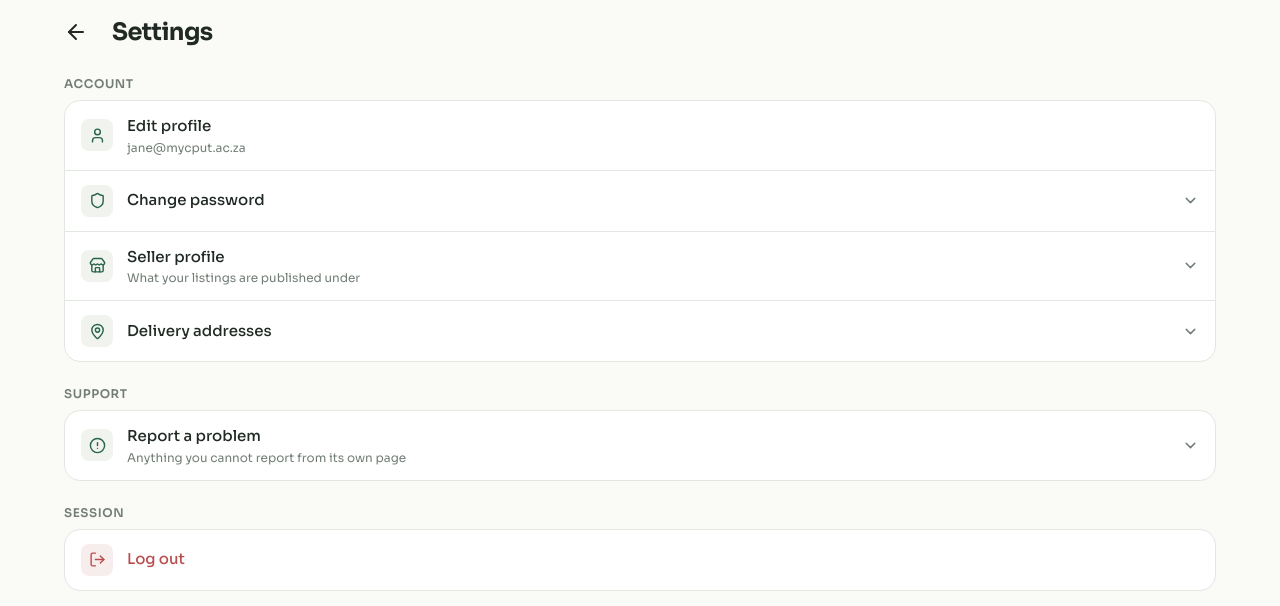
Scenario: student seller onboarding › lets a student apply for a seller profile from Settings
Click the button "Seller profile What your listings are published under" at (97, 266), box x1=65 y1=232 x2=1215 y2=300
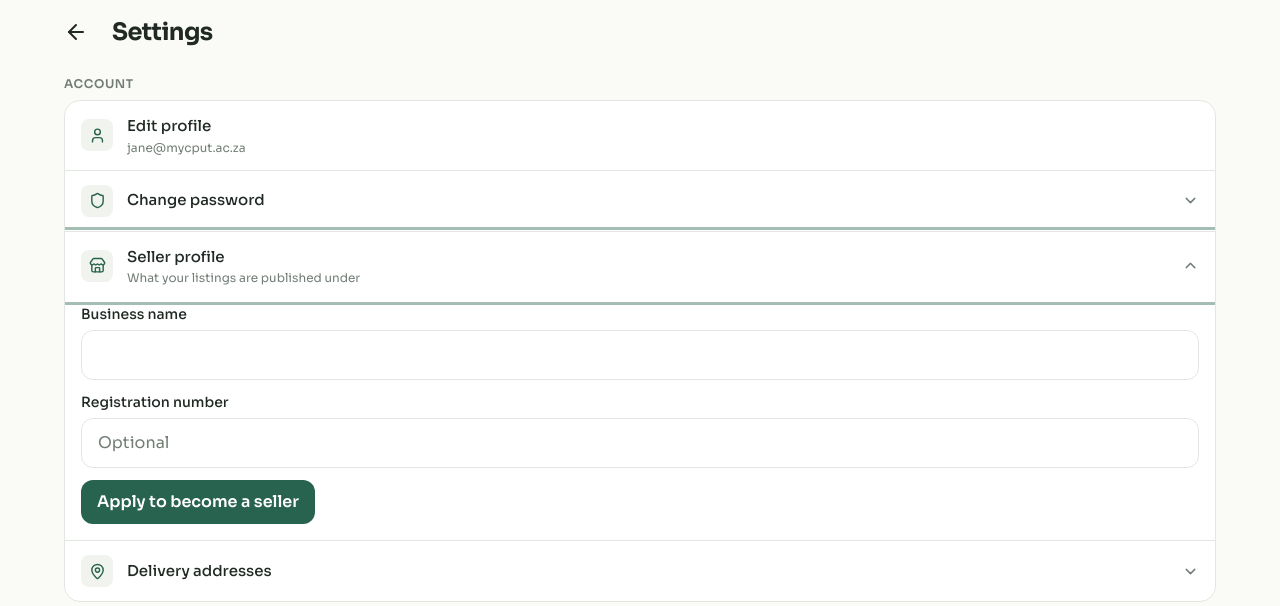
Type "Jane Books" into the field labelled "Business name" at (640, 355), box x1=81 y1=330 x2=1199 y2=380
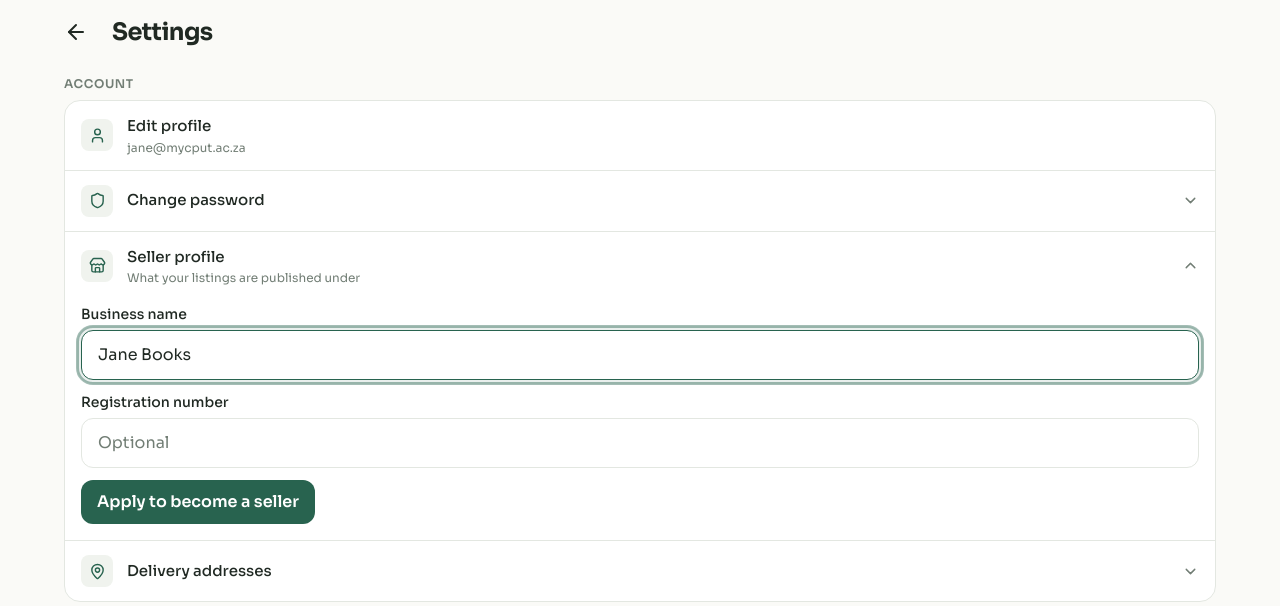
Click the button "Apply to become a seller" at (198, 502), box x1=81 y1=480 x2=315 y2=524
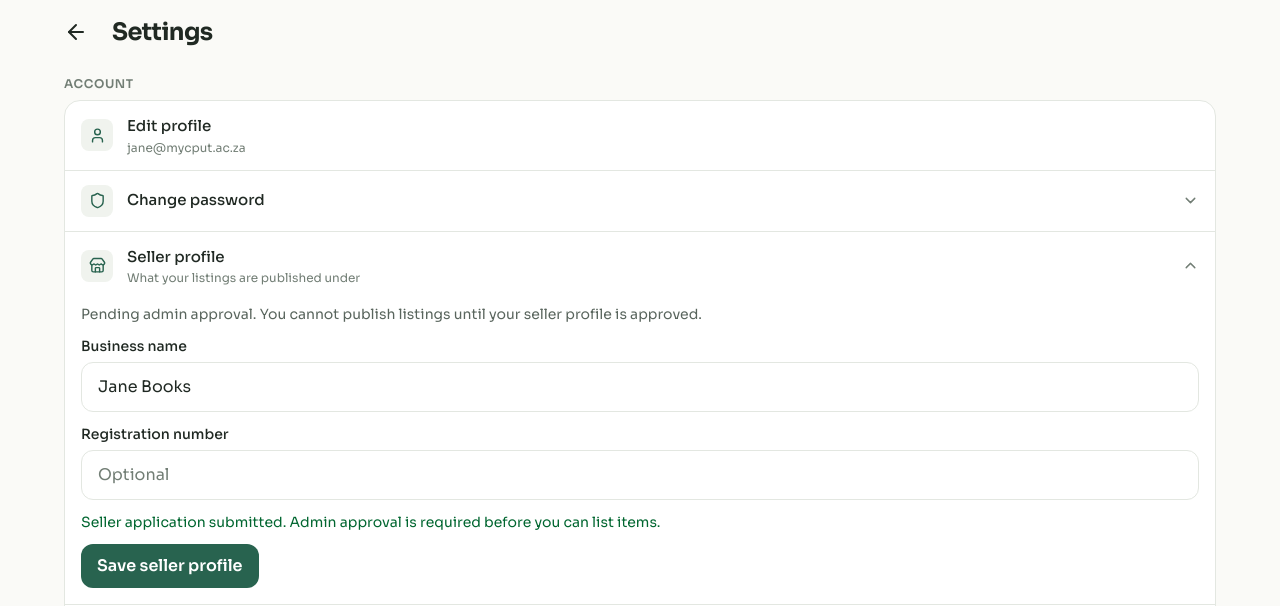
Result: the text "Pending admin approval" is shown at x1=81 y1=305 x2=702 y2=323
